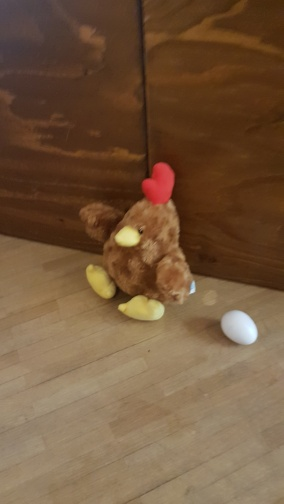chicken: (76, 161, 200, 323)
egg: (218, 309, 260, 347)
